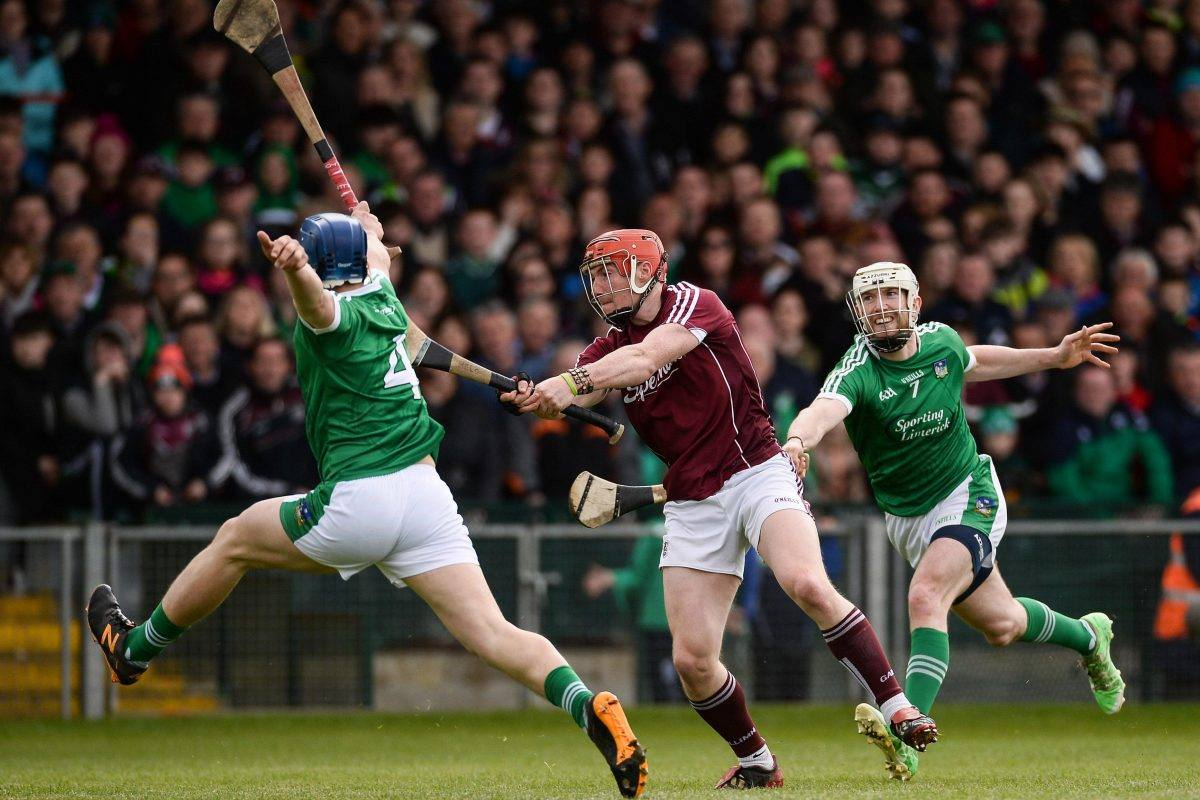hurley: (205, 1, 409, 266), (392, 309, 627, 449), (559, 470, 669, 526)
